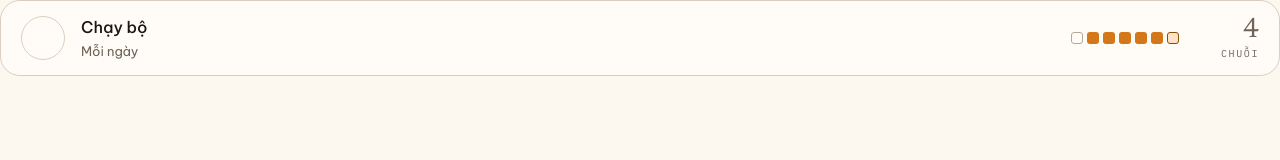
Test case: HabitOverviewRow › does not add a check-in on a rest day to the streak
Click the button named "Ghi dấu Chạy bộ".
click(43, 38)  # box 21,16 -> 65,60
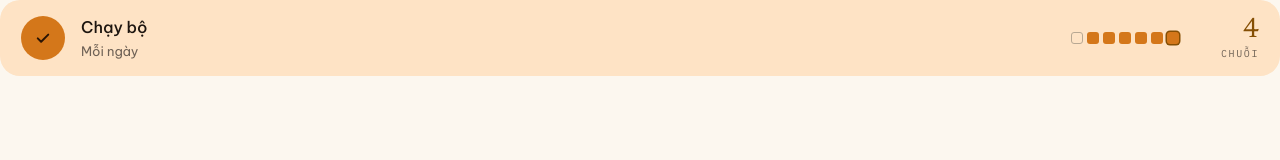
Expected: the button named "Ghi dấu Chạy bộ" is pressed, 21,16 -> 65,60
